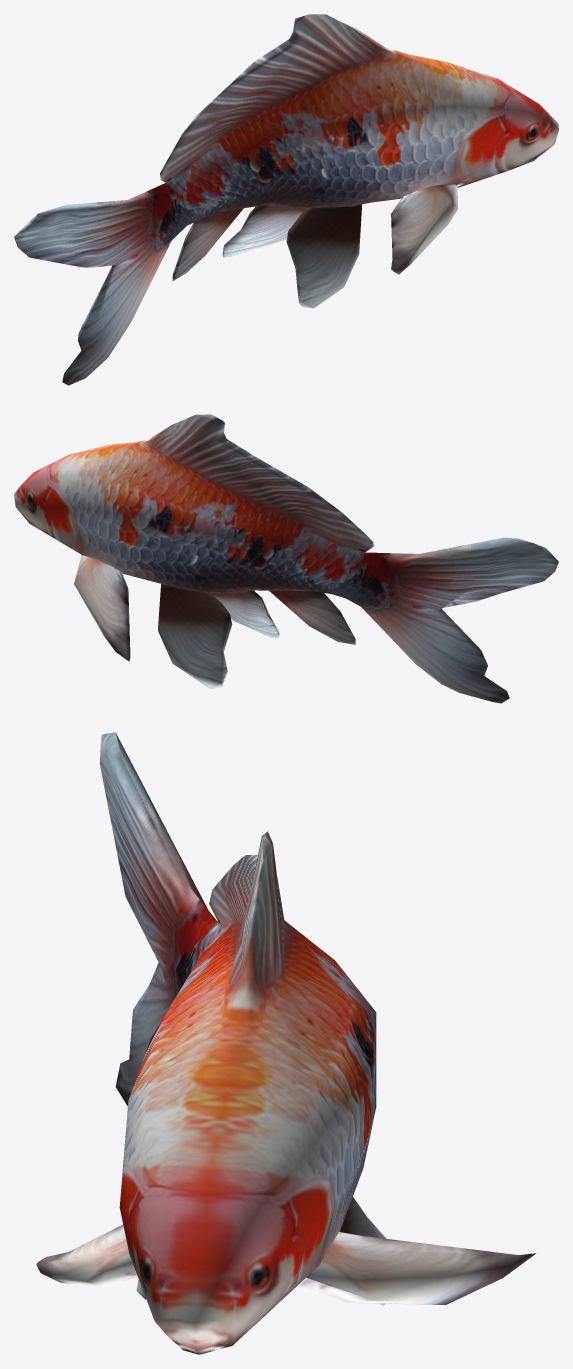
File: koifish.fbx
3 views of the same model, one above another, from view 1: azimuth 30°, elevation 25°; view 2: azimuth 150°, elevation 25°; view 3: azimuth 270°, elevation 25° (orthographic). The views are drawn at different scales.
Visible parts, largest first — view 1: koifish; view 2: koifish; view 3: koifish.
Part boxes in pixels (box(x1,y1,x2,y2)): koifish: box(14, 14, 558, 385); koifish: box(14, 414, 558, 703); koifish: box(36, 732, 535, 1354).
Bounding box in the file's own units: 625 × 289 × 260.
